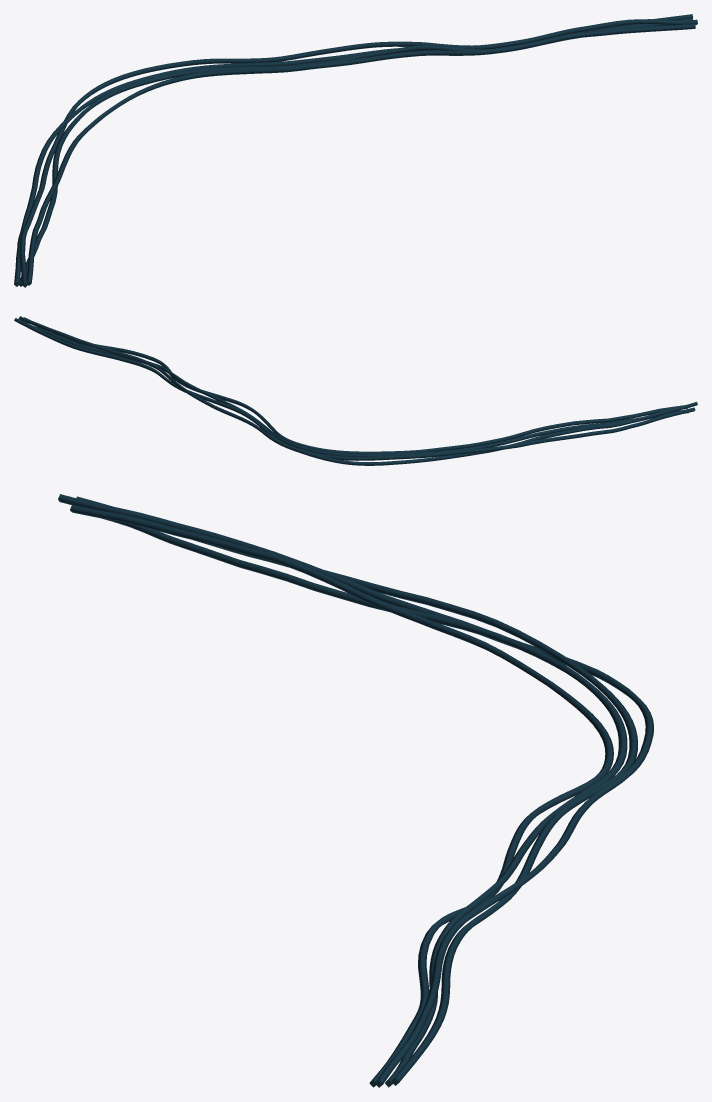
The model's file is CableFloor_Med_01.glb.
3 renders of one model, top to bottom at view 1: azimuth 30°, elevation 25°; view 2: azimuth 150°, elevation 25°; view 3: azimuth 270°, elevation 25°, orthographic. The views are drawn at different scales.
Parts seen in each view (by area): view 1: CableFloor_Med_01.001; view 2: CableFloor_Med_01.001; view 3: CableFloor_Med_01.001.
Part boxes in pixels (left/top/right/bottom): CableFloor_Med_01.001: left=14, top=14, right=697, bottom=287; CableFloor_Med_01.001: left=14, top=316, right=697, bottom=465; CableFloor_Med_01.001: left=58, top=494, right=653, bottom=1087.
Bounding box in the file's own units: 4.87 × 0.1019 × 2.09.
